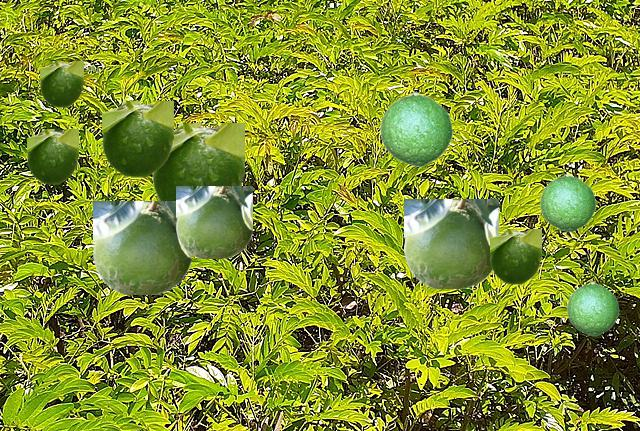dalandan: (93, 201, 190, 293), (404, 199, 497, 287), (152, 123, 243, 200), (379, 91, 452, 166), (176, 186, 251, 257), (102, 101, 172, 176), (539, 173, 595, 231), (566, 281, 618, 335), (27, 129, 77, 183), (490, 229, 540, 283), (40, 61, 82, 106)
